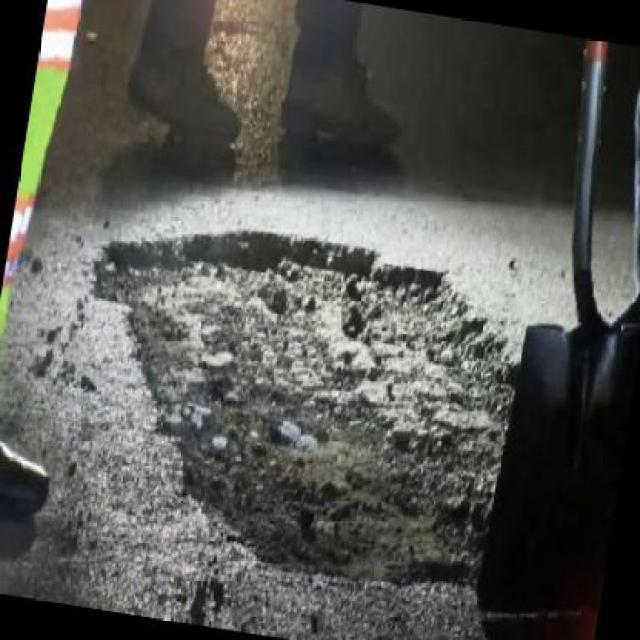pothole1: (47, 196, 571, 604)
